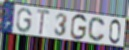0: (109, 19, 121, 46)
3: (53, 13, 68, 38)
C: (87, 16, 106, 43)
G: (70, 14, 88, 42), (16, 7, 33, 34)
T: (36, 8, 52, 37)
